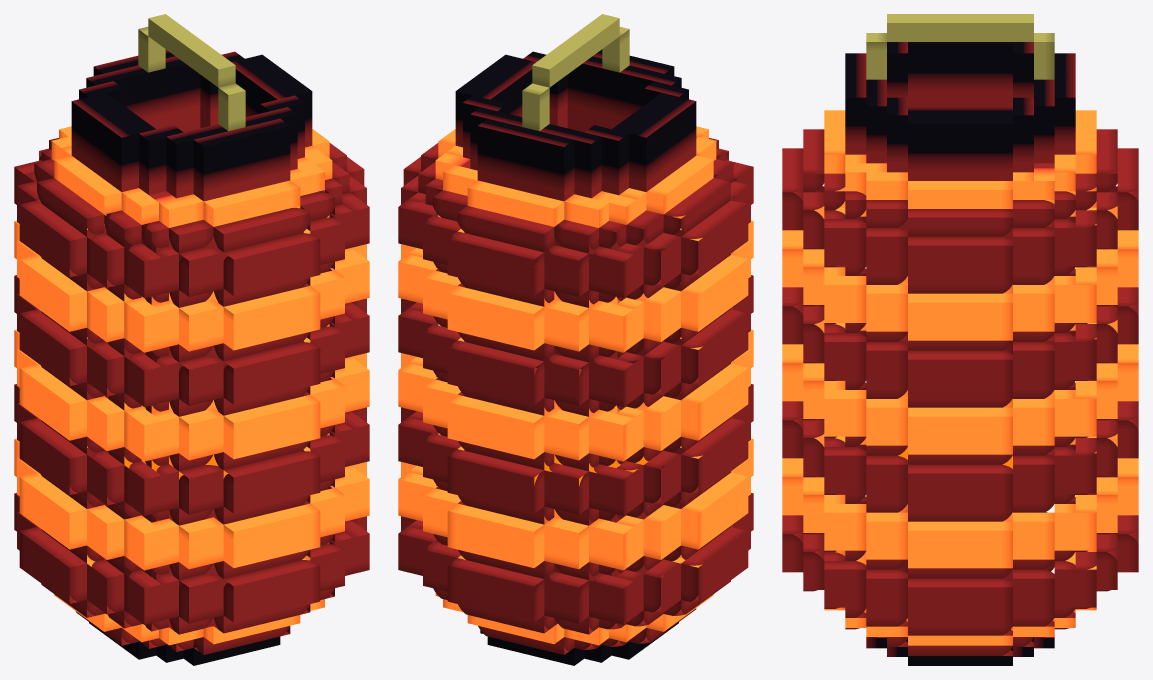
The model's file is Latarnia_japan.dae.
3 renders of one model, left to right at view 1: azimuth 30°, elevation 25°; view 2: azimuth 150°, elevation 25°; view 3: azimuth 270°, elevation 25°, orthographic. The views are drawn at different scales.
Parts seen in each view (by area): view 1: Content; view 2: Content; view 3: Content.
Part boxes in pixels (x1,y1,x2,y2): Content: [14, 14, 369, 665]; Content: [398, 14, 753, 665]; Content: [782, 14, 1138, 665].
Bounding box in the file's own units: 17 × 32 × 17.
Materials: 1 (1 with a texture image).
